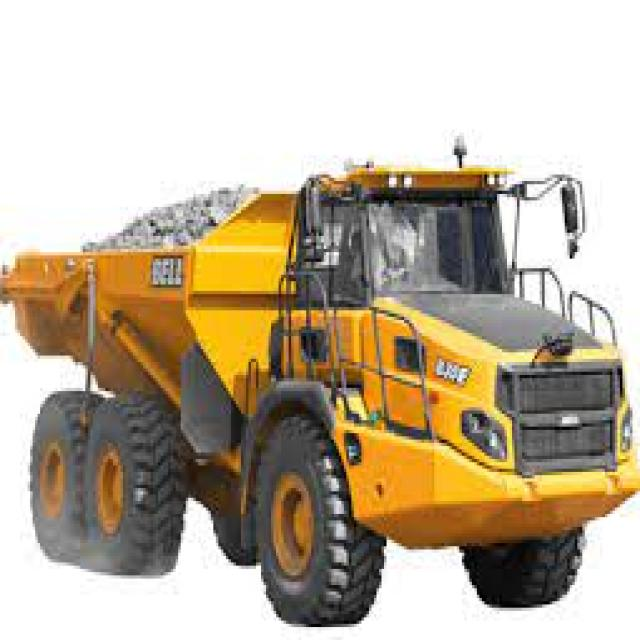dump_truck: (5, 113, 638, 624)
